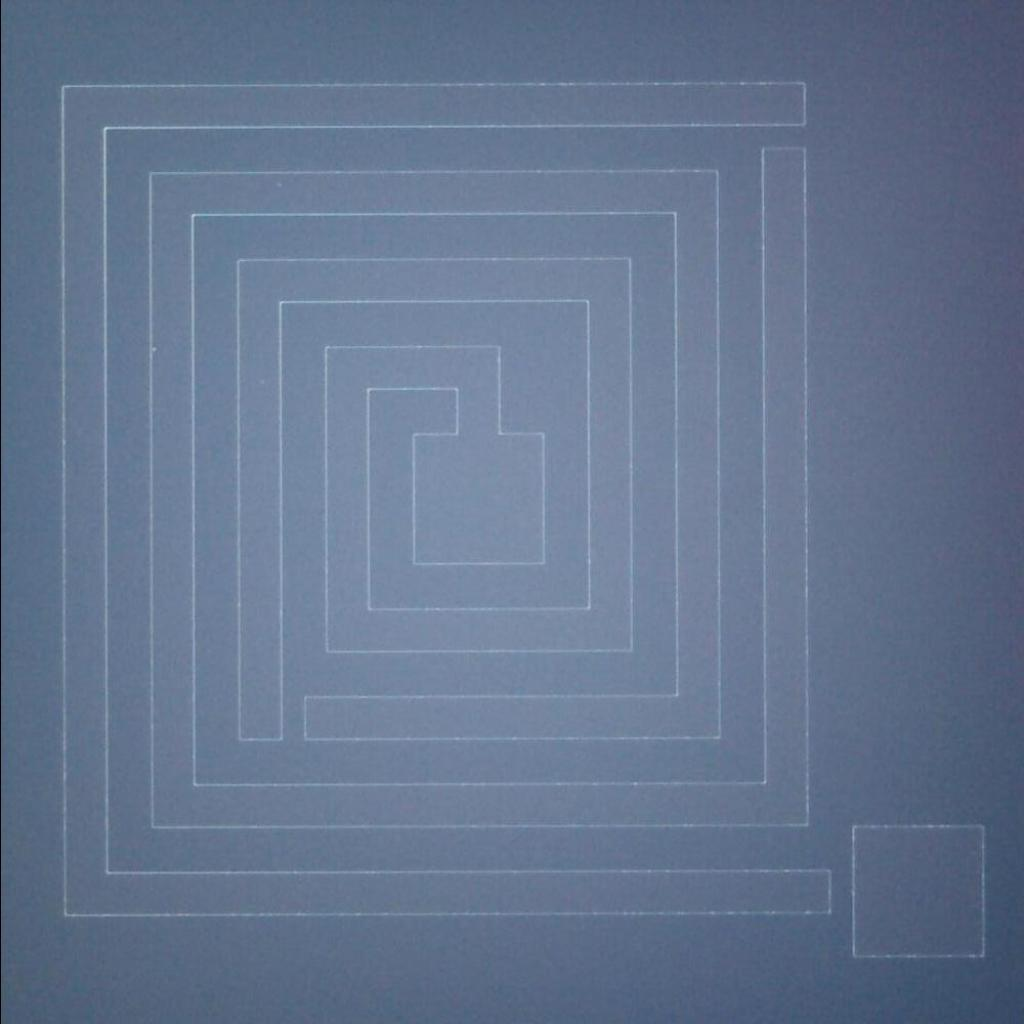short circuit: (264, 670, 326, 752), (803, 854, 866, 927), (752, 105, 812, 166)
